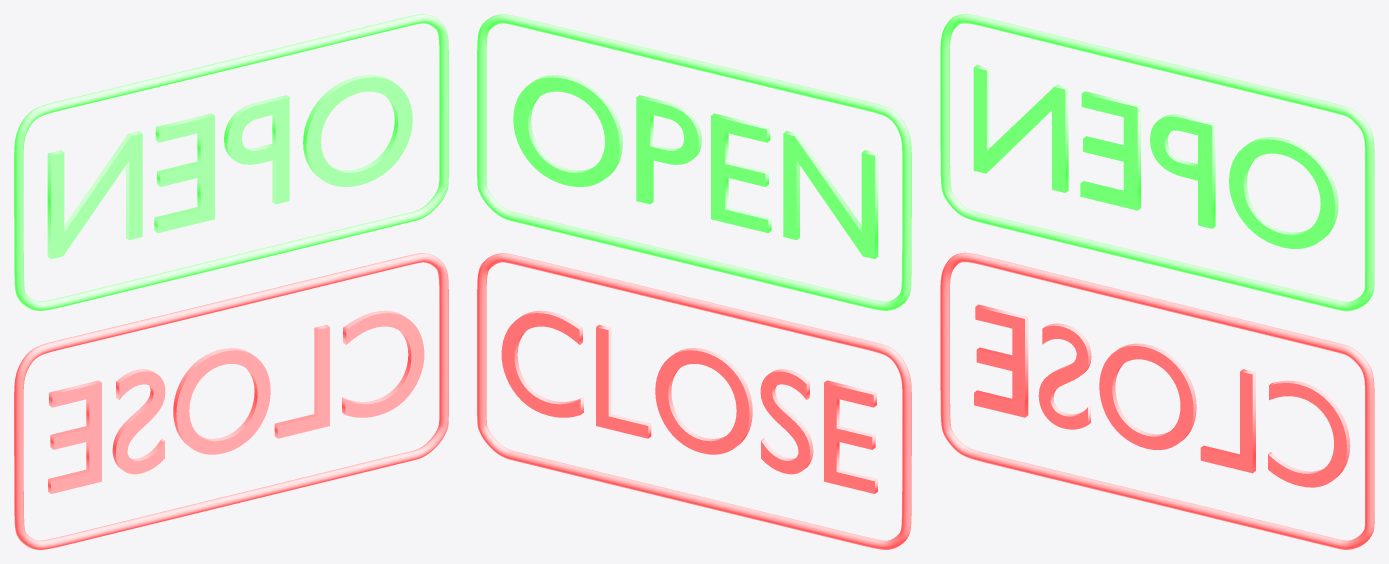
File: open_close_sign_neon_light_text.glb
3 views of the same model, side by side, from view 1: azimuth 30°, elevation 25°; view 2: azimuth 150°, elevation 25°; view 3: azimuth 330°, elevation 25° (orthographic).
Parts seen in each view (by area): view 1: Text_1, Text.001_2, NurbsPath_0, NurbsPath.001_3; view 2: Text_1, Text.001_2, NurbsPath_0, NurbsPath.001_3; view 3: Text_1, Text.001_2, NurbsPath_0, NurbsPath.001_3.
Part boxes in pixels (x1=…): Text_1: x1=47, y1=75, x2=412, y2=259; Text.001_2: x1=48, y1=310, x2=424, y2=493; NurbsPath_0: x1=14, y1=14, x2=448, y2=310; NurbsPath.001_3: x1=14, y1=253, x2=448, y2=549; Text_1: x1=513, y1=75, x2=878, y2=259; Text.001_2: x1=501, y1=310, x2=877, y2=493; NurbsPath_0: x1=477, y1=14, x2=911, y2=310; NurbsPath.001_3: x1=477, y1=253, x2=911, y2=549; Text_1: x1=973, y1=65, x2=1338, y2=248; Text.001_2: x1=974, y1=304, x2=1350, y2=487; NurbsPath_0: x1=940, y1=14, x2=1374, y2=311; NurbsPath.001_3: x1=940, y1=252, x2=1374, y2=549.
Bounding box in the file's own units: 4.18 × 4.1 × 0.08.
